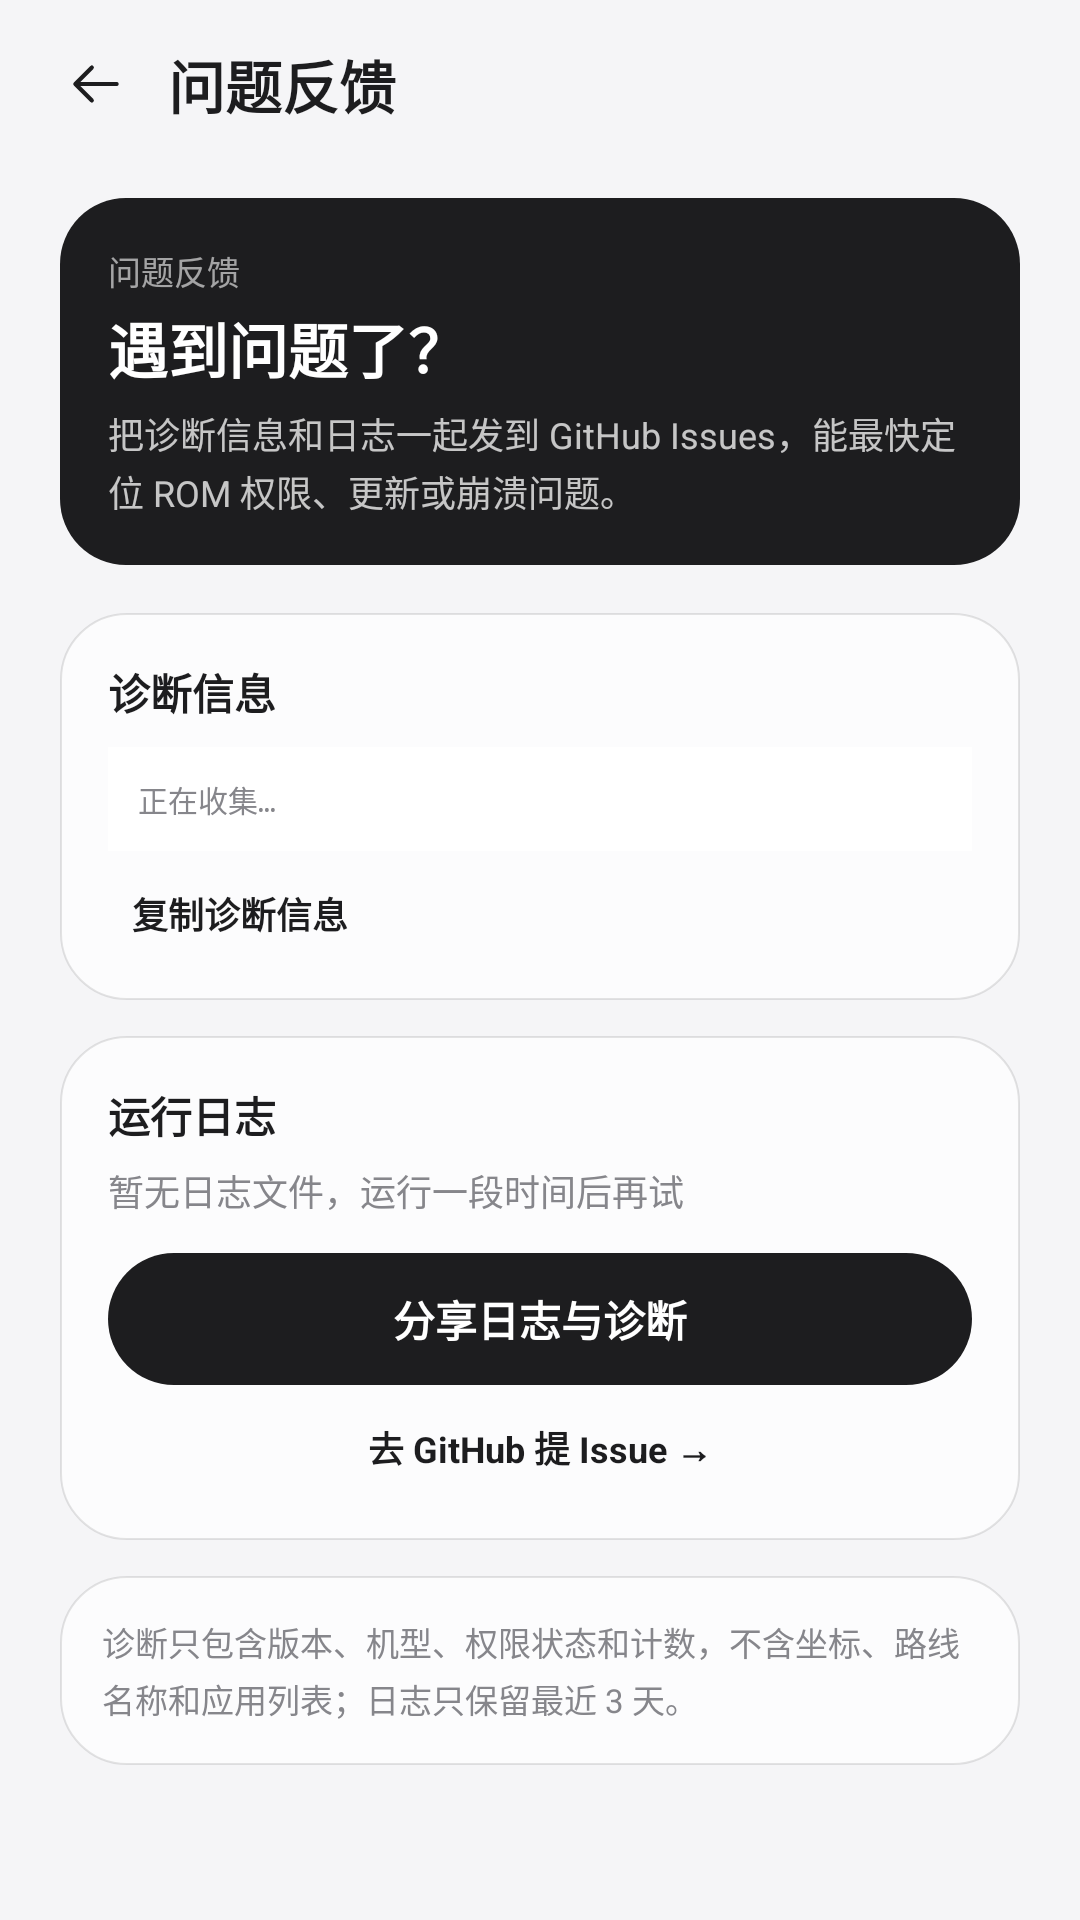

Point at icon controls on the screen. Image size 1080 × 1920, points as (x,y).
返回: (96,84)
